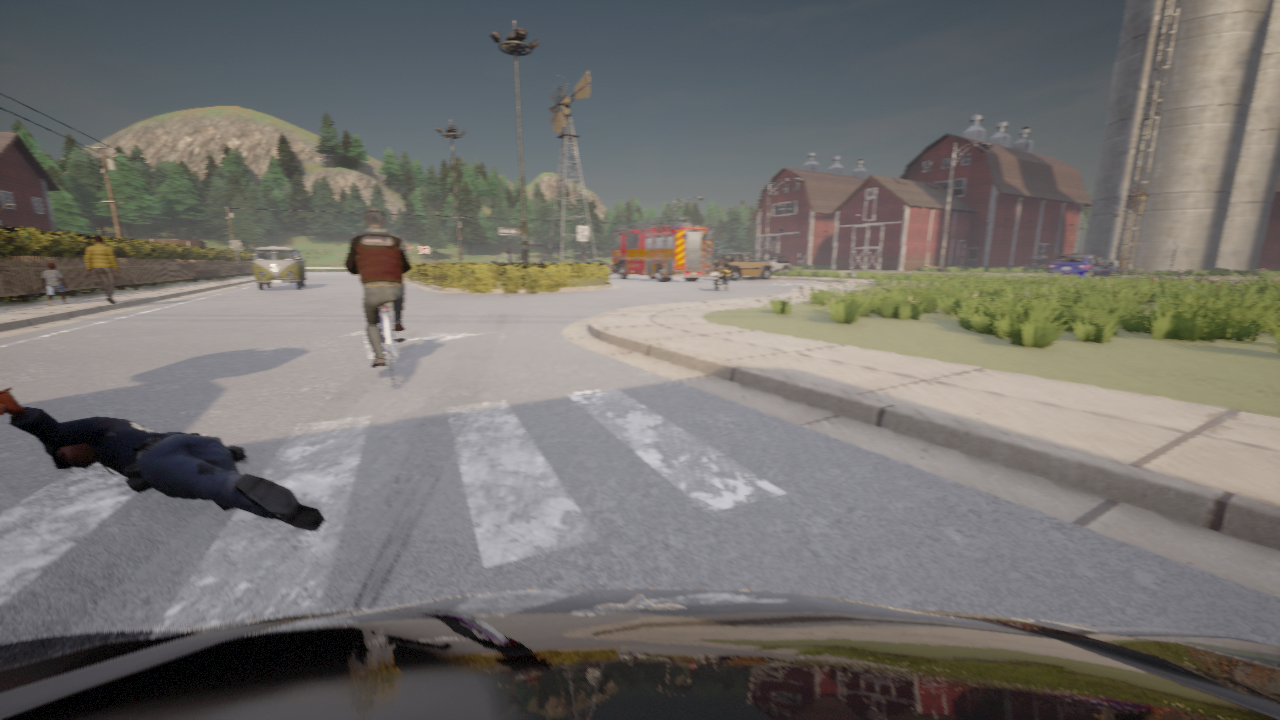cyclist: (0, 588, 1279, 719), (610, 216, 713, 282), (374, 304, 404, 387), (249, 246, 306, 289), (1046, 254, 1117, 279), (712, 252, 773, 280), (711, 264, 734, 291), (767, 255, 790, 273), (591, 260, 610, 273), (479, 260, 503, 262), (537, 260, 556, 262)
pedestrian: (0, 387, 325, 531), (85, 234, 119, 303), (42, 262, 67, 305)
